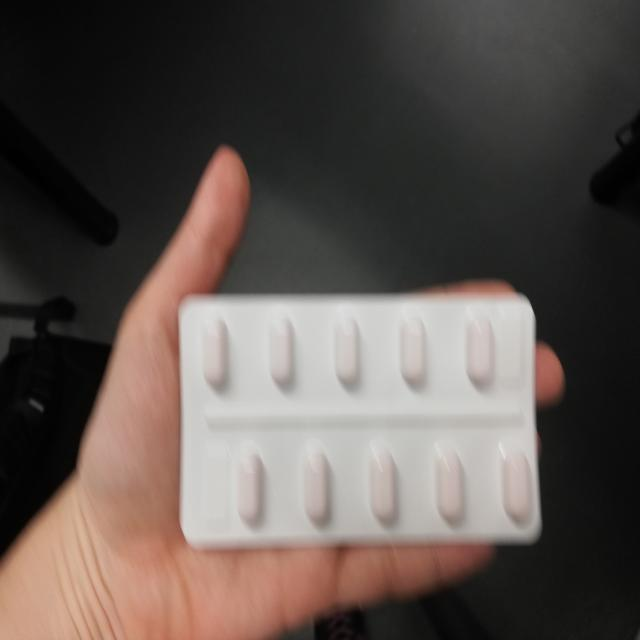Pill: (193, 304, 239, 404), (290, 439, 340, 531), (360, 433, 404, 537), (429, 442, 474, 540), (326, 300, 366, 406), (261, 304, 301, 402), (231, 441, 272, 535), (392, 311, 436, 396), (460, 309, 497, 398), (500, 448, 535, 539)
